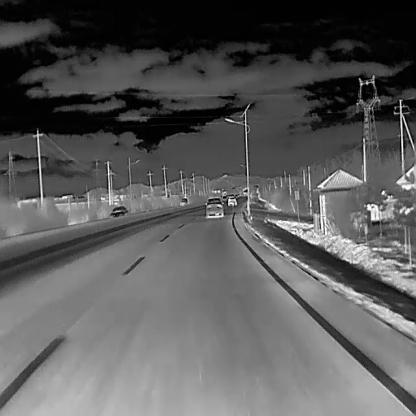car: (204, 197, 224, 219), (107, 205, 128, 218), (227, 195, 237, 206), (179, 197, 187, 206)
